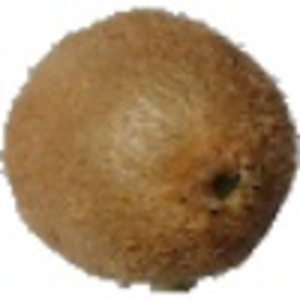kiwi: (1, 5, 300, 295)
